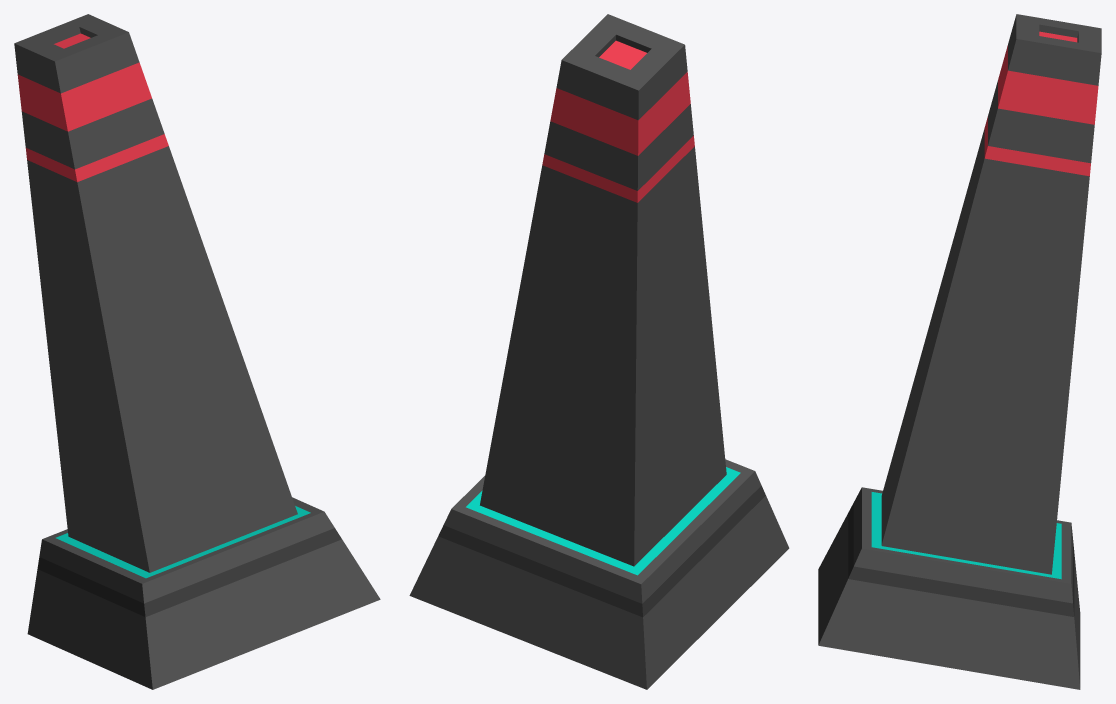
File: Stone_Pillar_1.fbx
3 renders of one model, left to right at view 1: azimuth 30°, elevation 25°; view 2: azimuth 150°, elevation 25°; view 3: azimuth 270°, elevation 25°, orthographic. The views are drawn at different scales.
Visible parts, largest first — view 1: Stone_Pillar_1; view 2: Stone_Pillar_1; view 3: Stone_Pillar_1.
Part boxes in pixels (x1=…): Stone_Pillar_1: x1=14, y1=14, x2=380, y2=689; Stone_Pillar_1: x1=409, y1=14, x2=789, y2=689; Stone_Pillar_1: x1=818, y1=14, x2=1101, y2=689.
Size of the model in its own units: 203 by 505 by 213.
